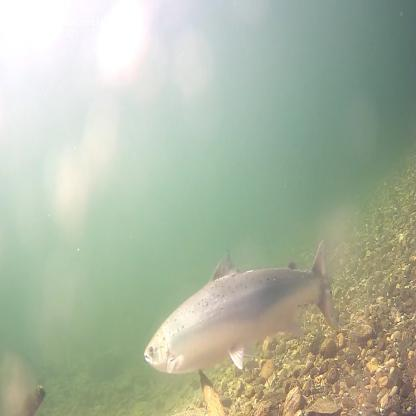salmon: (141, 231, 341, 376)
